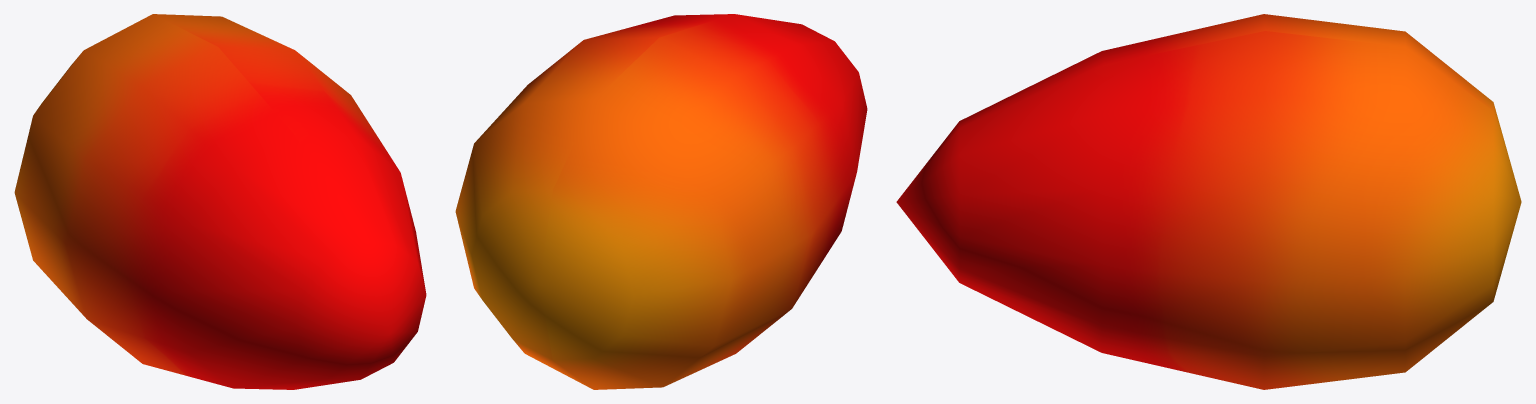
File: TENTOUMUSHI hinotama.FBX
3 views of the same model, side by side, from view 1: azimuth 30°, elevation 25°; view 2: azimuth 150°, elevation 25°; view 3: azimuth 270°, elevation 25° (orthographic). The views are drawn at different scales.
Visible parts, largest first — view 1: Sphere001; view 2: Sphere001; view 3: Sphere001.
Part boxes in pixels (<box>): Sphere001: <box>14,14,426,389</box>; Sphere001: <box>455,14,867,389</box>; Sphere001: <box>896,14,1521,389</box>.
Size of the model in its own units: 18.5 by 18.5 by 30.65.
